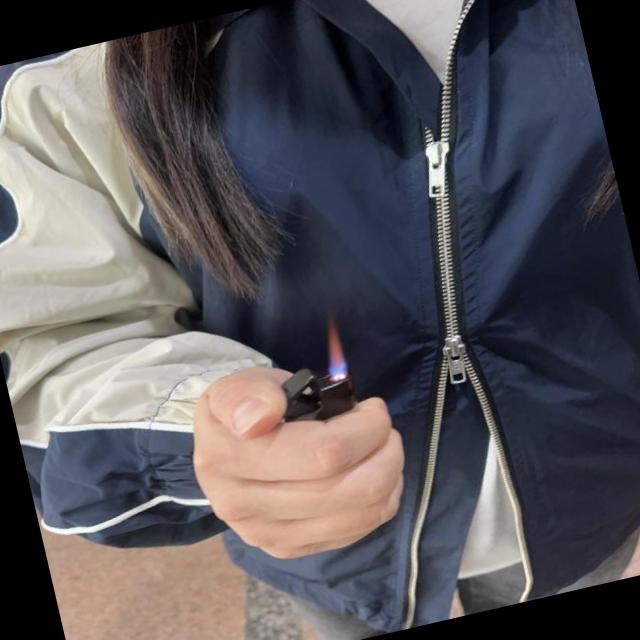Fire: (316, 318, 349, 384)
